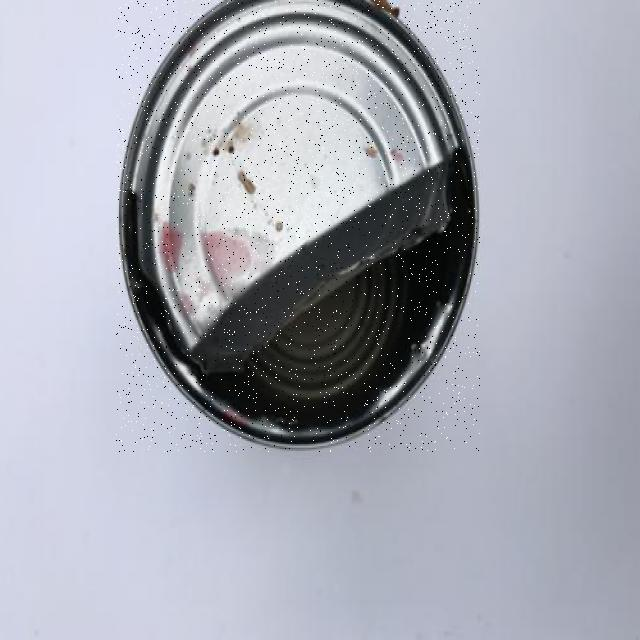metal: (117, 0, 480, 452)
